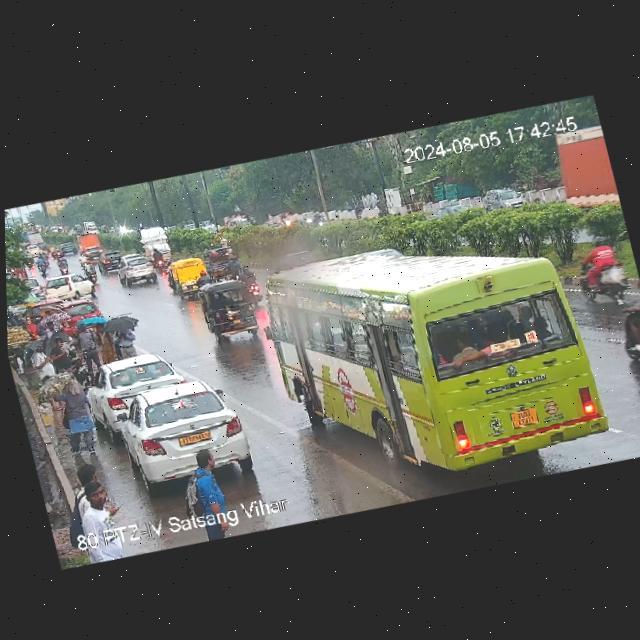bus: (257, 207, 620, 510)
car: (100, 368, 254, 493), (84, 345, 186, 424), (194, 276, 260, 346), (615, 280, 640, 372), (37, 267, 95, 304), (167, 254, 214, 299), (483, 181, 529, 215), (113, 256, 160, 289), (63, 294, 102, 324), (97, 247, 128, 273)
motorcycle: (570, 232, 632, 306), (223, 249, 267, 313), (46, 243, 71, 276), (33, 251, 51, 277)
person: (59, 455, 141, 567), (172, 447, 245, 546), (47, 366, 100, 450), (96, 314, 143, 362), (70, 319, 109, 371), (26, 341, 57, 381)
truck: (545, 122, 622, 221), (136, 225, 176, 266), (71, 228, 104, 259)
